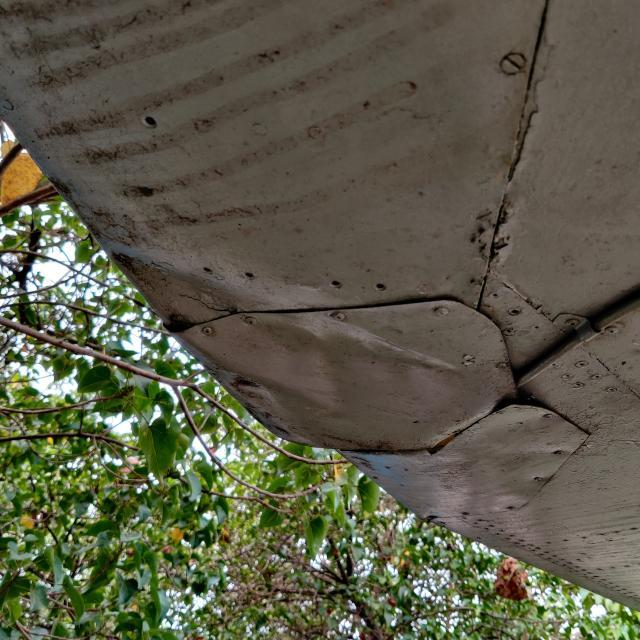dent: (107, 230, 474, 432)
